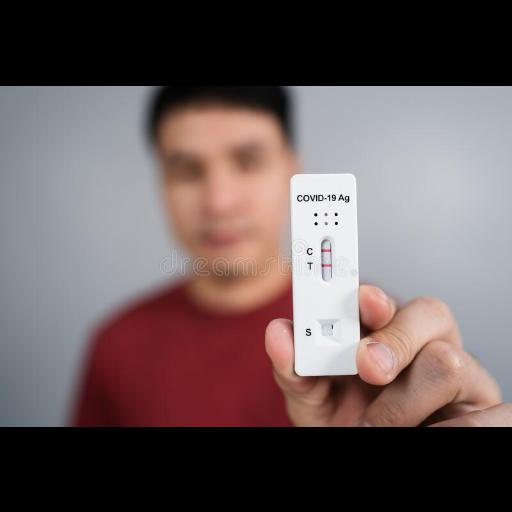Pos: (289, 173, 359, 375)
